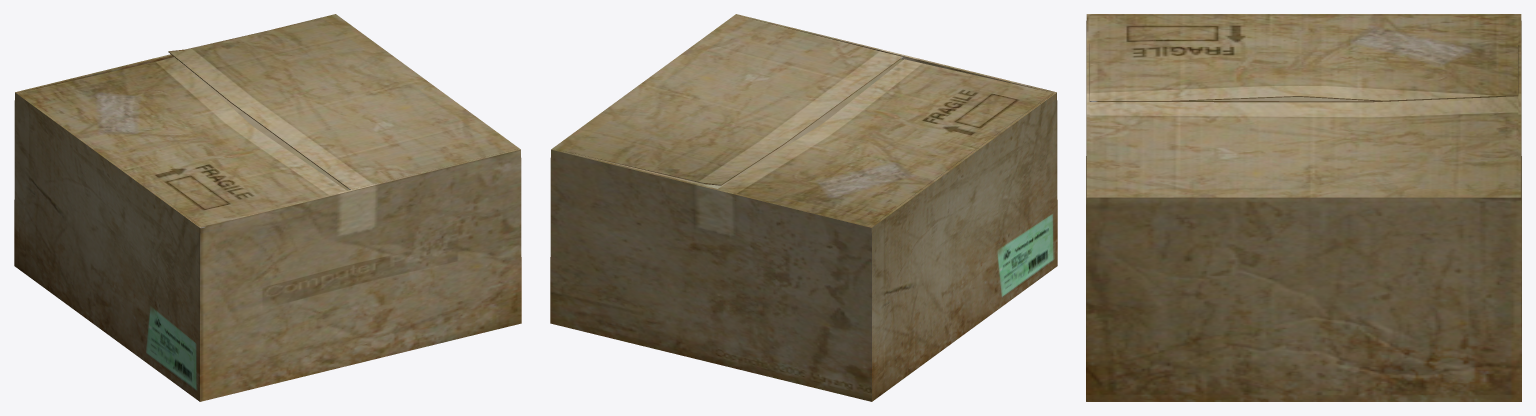
File: storage_box1.dae
3 renders of one model, left to right at view 1: azimuth 30°, elevation 25°; view 2: azimuth 150°, elevation 25°; view 3: azimuth 270°, elevation 25°, orthographic. The views are drawn at different scales.
Visible parts, largest first — view 1: box; view 2: box; view 3: box.
Boxes of the visible parts, <box> form: box: <box>14,14,521,401</box>; box: <box>550,14,1057,401</box>; box: <box>1086,14,1521,401</box>.
Size of what is drawn, in the model's own units: 0.8154 by 0.4329 by 0.8154.
